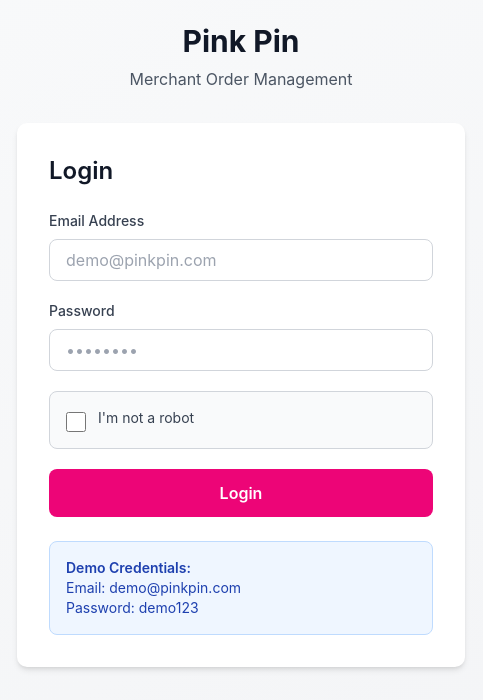
Test: LoginPage › Form Validation › should show email error for invalid email format
Type "invalid-email" into the field labelled "Email Address" at (241, 260), box top-left (49, 239), bottom-right (433, 281)
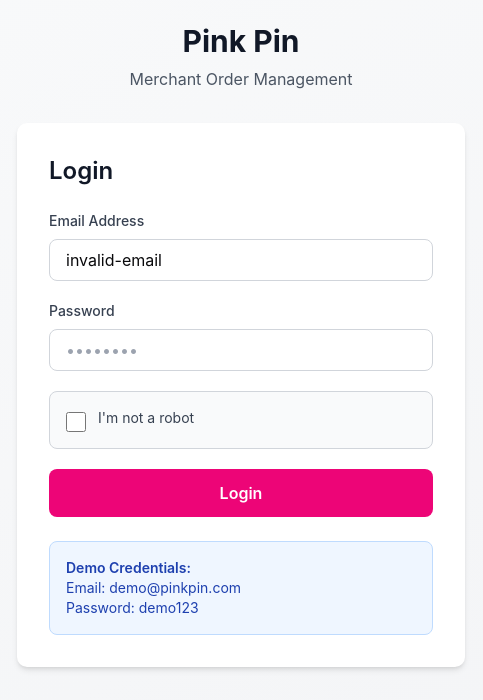
Leave the field labelled "Email Address", box top-left (49, 239), bottom-right (433, 281)
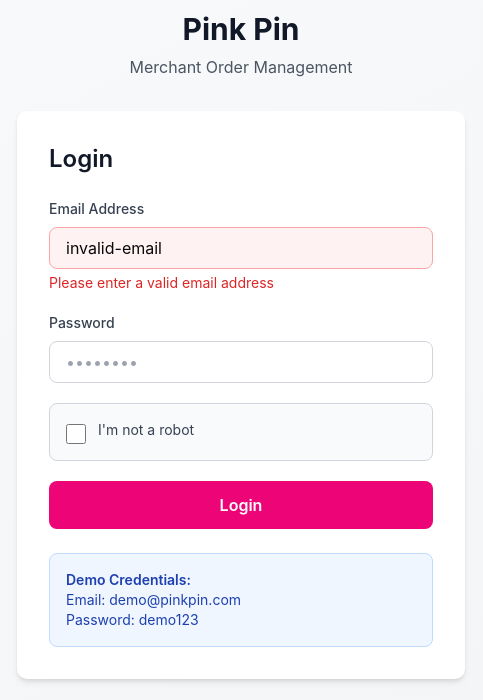
Check: the text "Please enter a valid email address" is shown, box top-left (49, 274), bottom-right (274, 291)
